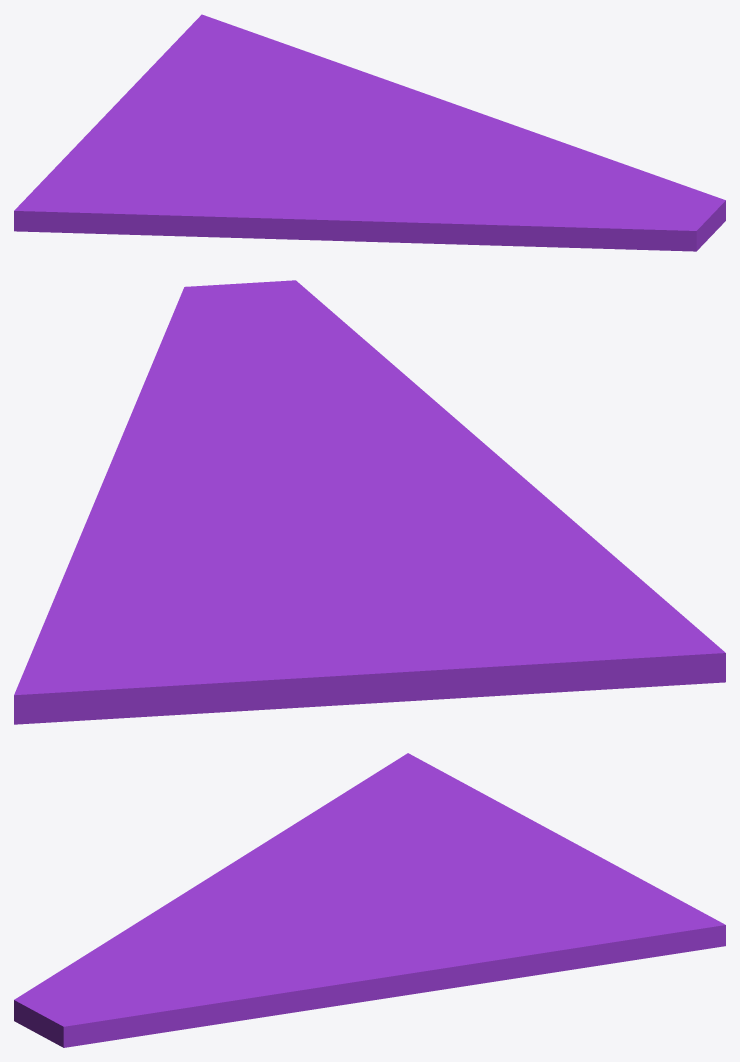
File: StairsStep_19.fbx
3 renders of one model, top to bottom at view 1: azimuth 30°, elevation 25°; view 2: azimuth 150°, elevation 25°; view 3: azimuth 270°, elevation 25°, orthographic. The views are drawn at different scales.
Parts seen in each view (by area): view 1: StairsStep_19; view 2: StairsStep_19; view 3: StairsStep_19.
Boxes of the visible parts, x1,y1,x2,y2 form: StairsStep_19: (14, 14, 725, 251); StairsStep_19: (14, 280, 725, 724); StairsStep_19: (14, 753, 725, 1047).
Size of the model in its own units: 498 by 17.94 by 547.
